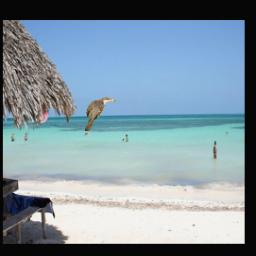Cuckoo: (84, 98, 115, 132)
